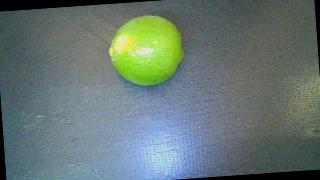EXPORTACION: (107, 13, 186, 88)
